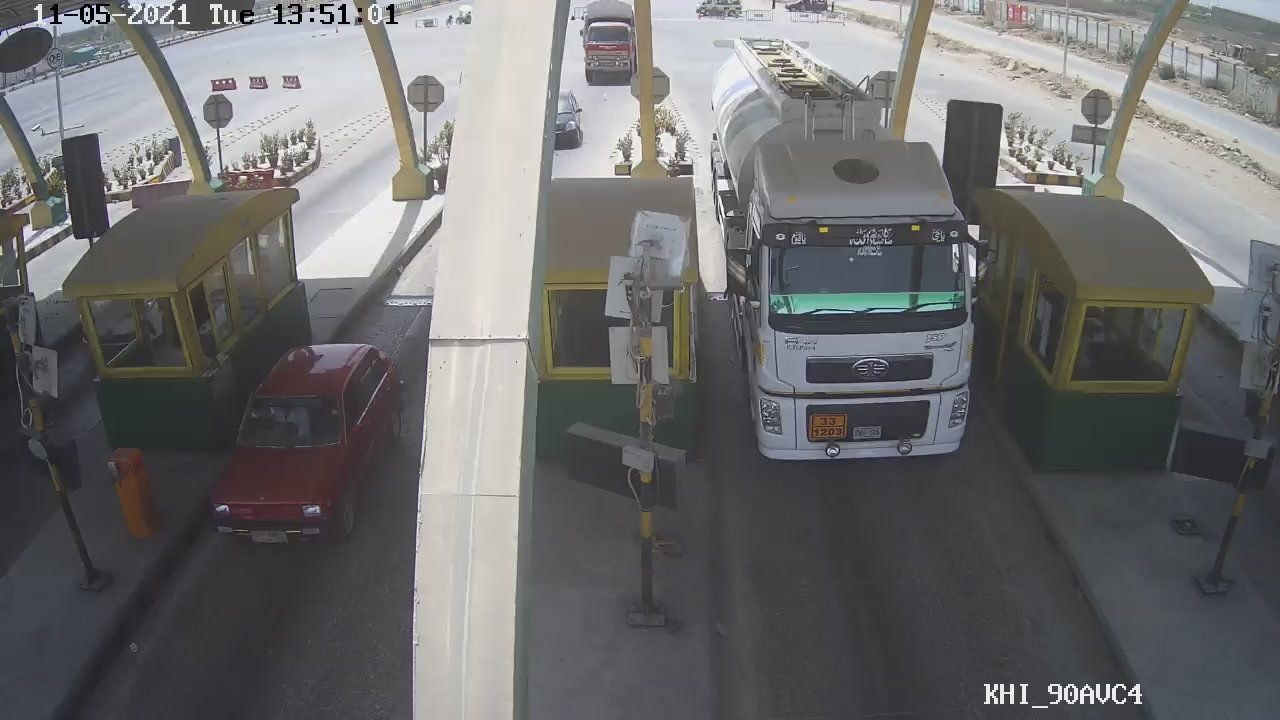F6: (716, 84, 992, 469)
